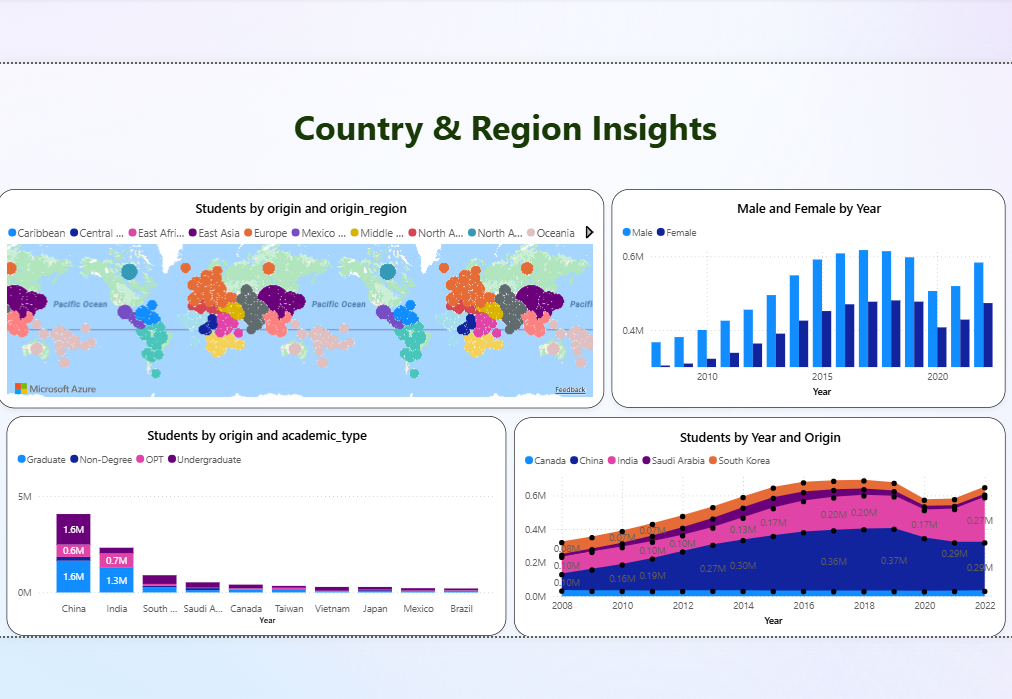

Layout of this report page (visuals, bound fields, positions):
{"tool":"powerbi","page":{"name":"Country & Region Insights","canvas":[1280,720],"ordinal":2},"visuals":[{"type":"stackedAreaChart","title":"Students by Year and Origin","fields":{"Category":["academic.year_start"],"Series":["origin.origin"],"Y":["Sum(origin.students)"]},"box":[650,444,618,276],"z":0},{"type":"columnChart","title":"Students by origin and academic_type","fields":{"Category":["origin.origin"],"Series":["origin.academic_type"],"Y":["Sum(origin.students)"]},"box":[11.7,443.3,628.3,276.7],"z":1000},{"type":"clusteredColumnChart","fields":{"Category":["status.year_start"],"Y":["Sum(status.male)","Sum(status.female)"]},"box":[773.3,156.7,495,275],"z":2000},{"type":"textbox","box":[11.5,26.8,1254.5,109.6],"z":3000},{"type":"azureMap","title":"Students by origin and origin_region","fields":{"Category":["origin.origin"],"Series":["origin.origin_region"],"Size":["Sum(origin.students)"]},"box":[0,156.7,763.3,275.6],"z":4000}]}

Visuals, with their boxes on the page's 1280x720 design canvas (x1, y1, x2, y2). These are canvas units, not pixel positions in the 1012x699 screenshot, which may show the page scaled, cropped or inside an application window:
"Students by Year and Origin" stackedAreaChart: bbox=(650, 444, 1268, 720)
"Students by origin and academic_type" columnChart: bbox=(12, 443, 640, 720)
clusteredColumnChart - status.year_start x Sum(status.male): bbox=(773, 157, 1268, 432)
textbox: bbox=(12, 27, 1266, 136)
"Students by origin and origin_region" azureMap: bbox=(0, 157, 763, 432)
